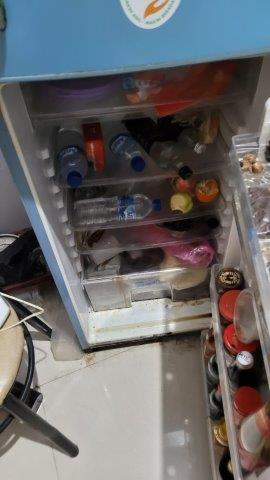botolkaca: (121, 118, 202, 182)
